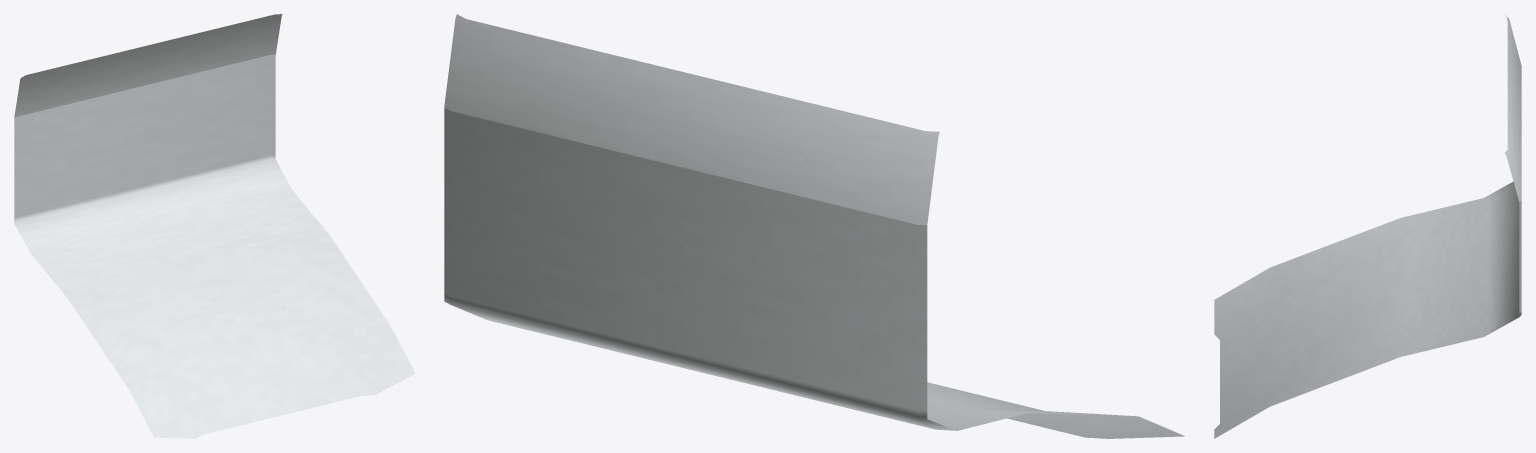
File: spheroid_medium_1_2_0.obj
The picture shows the model from 3 angles, left to right: view 1: azimuth 30°, elevation 25°; view 2: azimuth 150°, elevation 25°; view 3: azimuth 270°, elevation 25°; orthographic projection. The views are drawn at different scales.
Parts seen in each view (by area): view 1: spheroid_medium_1_2_0; view 2: spheroid_medium_1_2_0; view 3: spheroid_medium_1_2_0.
Part boxes in pixels (x1,y1,x2,y2): spheroid_medium_1_2_0: [14, 14, 415, 438]; spheroid_medium_1_2_0: [444, 14, 1184, 438]; spheroid_medium_1_2_0: [1214, 15, 1521, 438].
Bounding box in the file's own units: 3 × 3 × 2.8.
